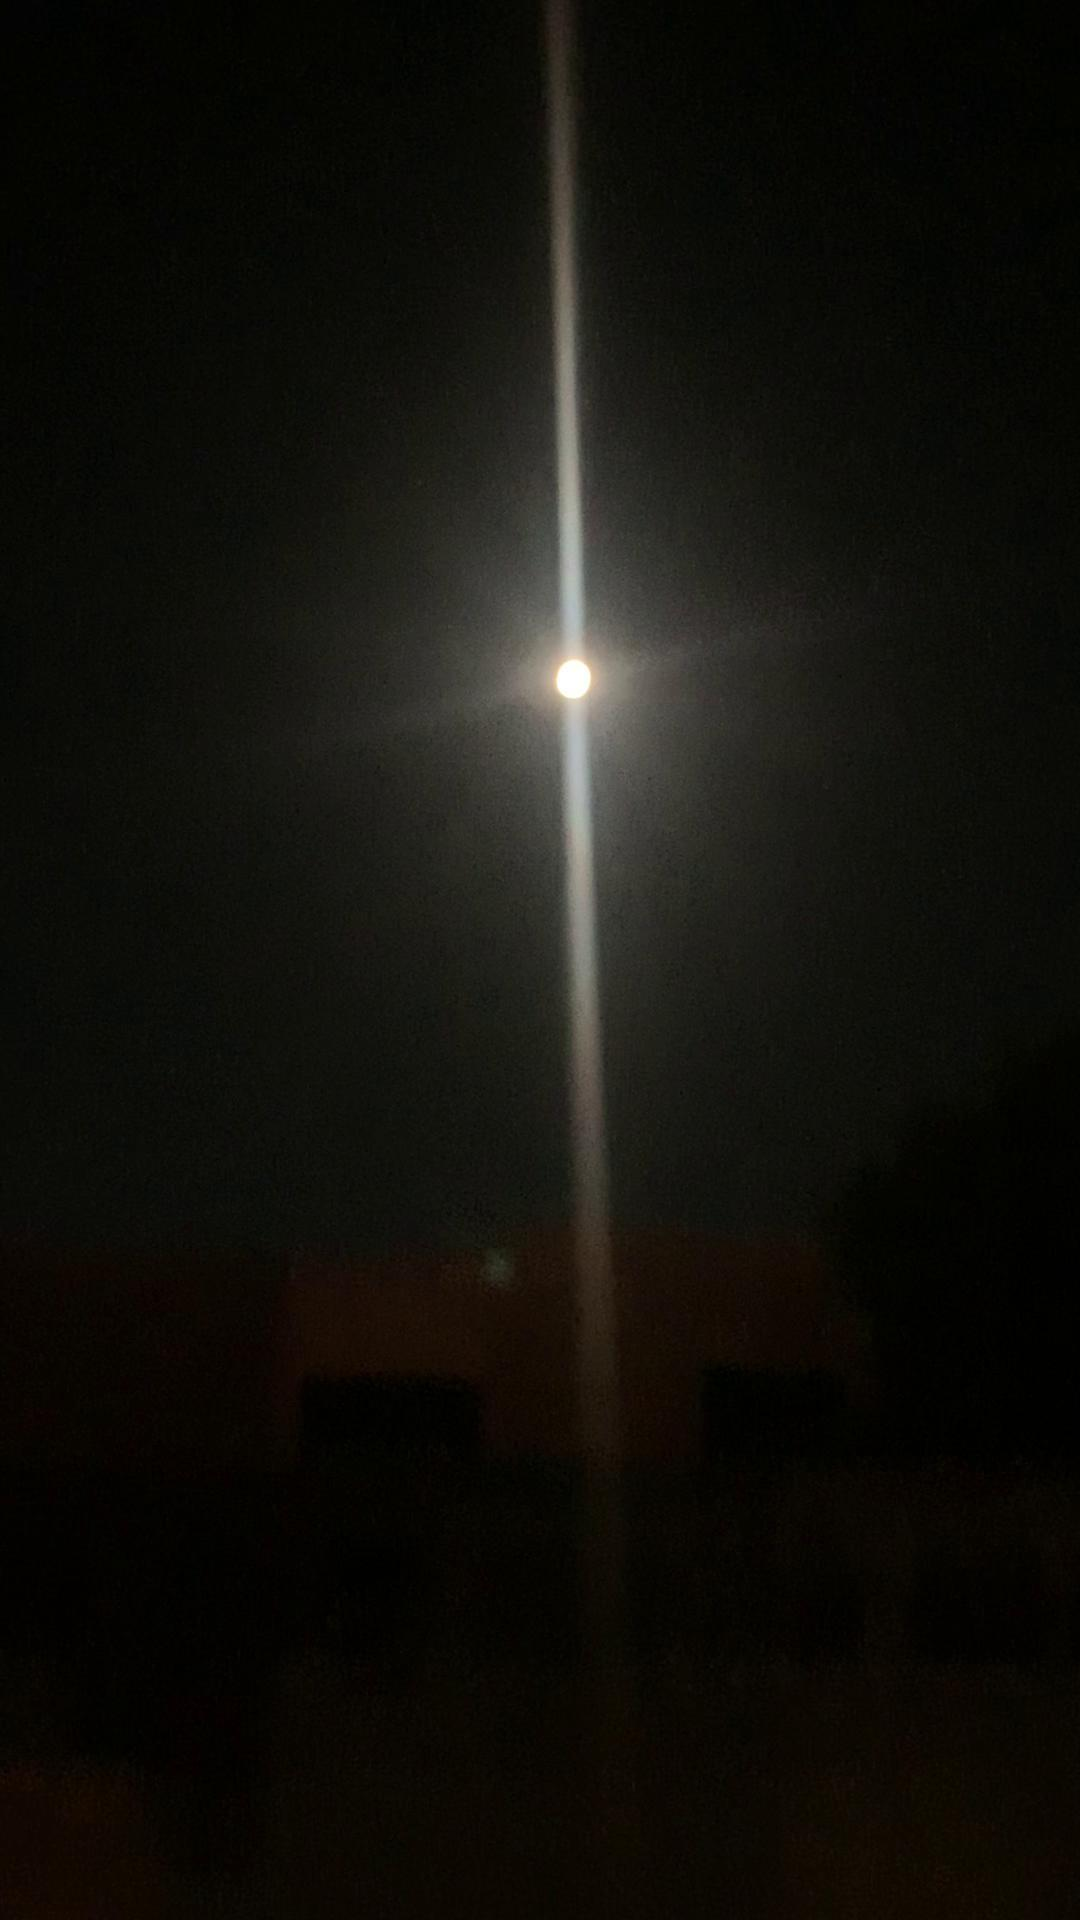moon: (527, 626, 636, 725)
